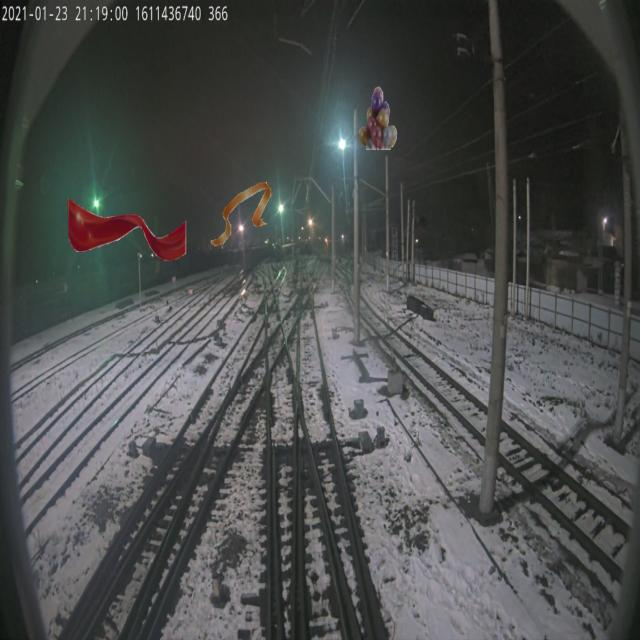balloon: (358, 86, 398, 150)
floating object: (66, 198, 188, 262), (211, 182, 272, 246)
